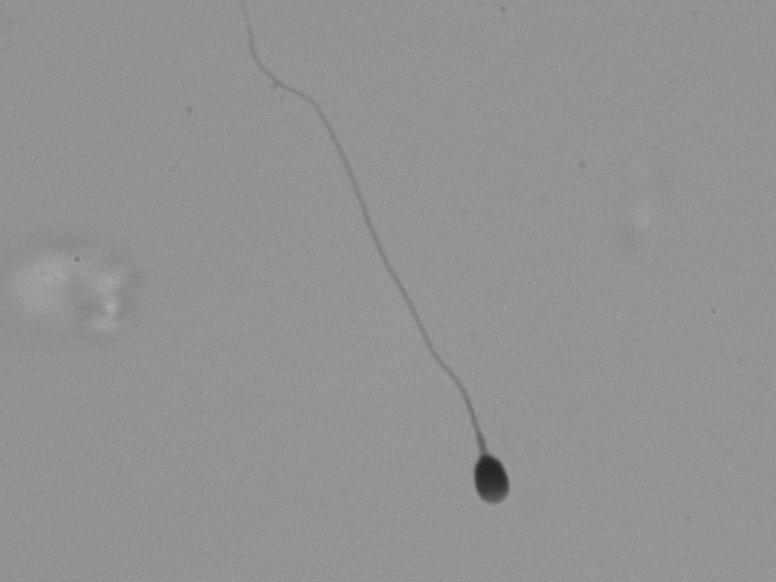Normal: (179, 13, 514, 528)
